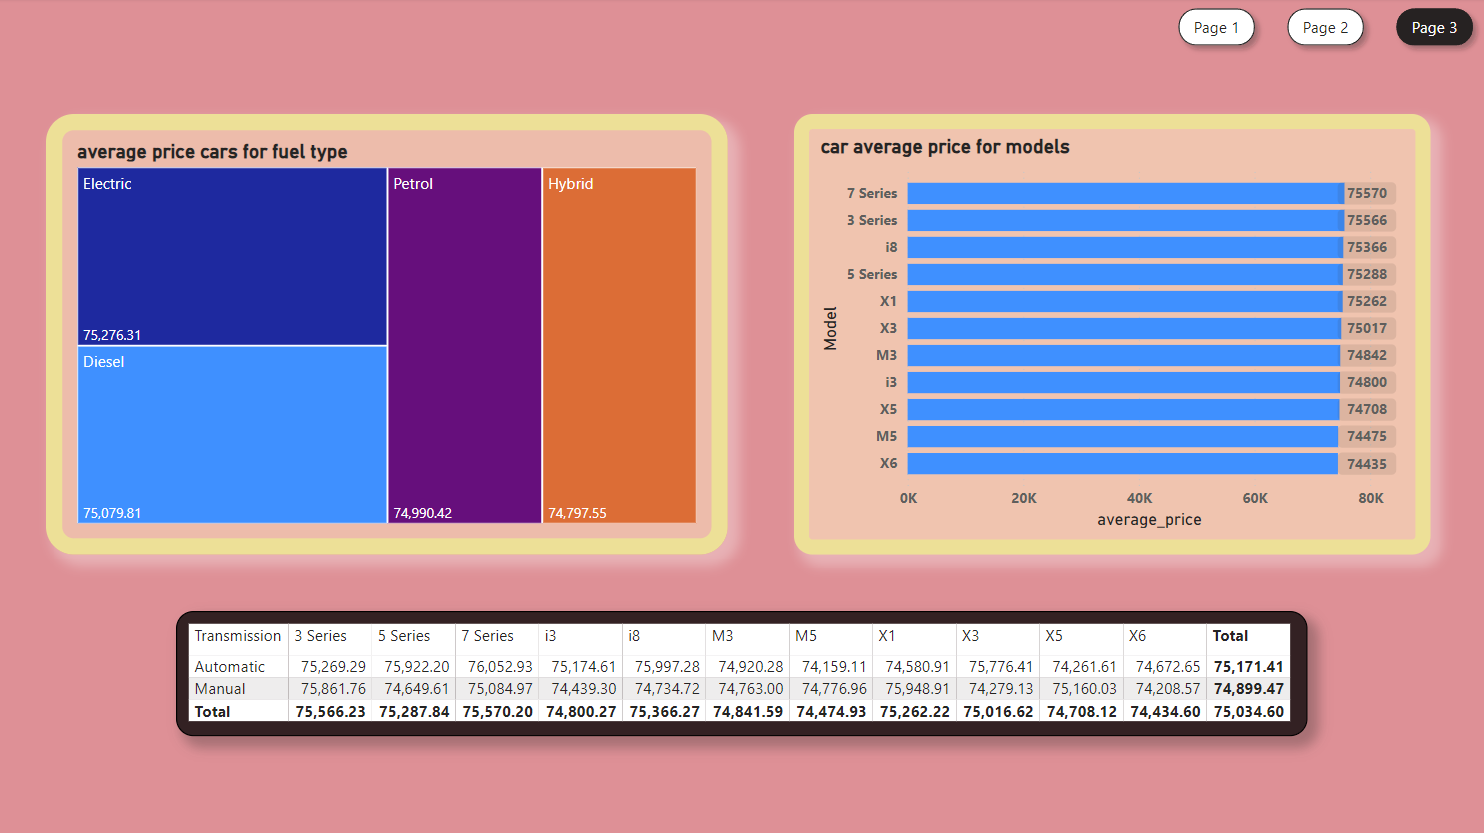

The dashboard page shown, as its layout file describes it:
{"tool":"powerbi","page":{"name":"Page 3","canvas":[1280,720],"ordinal":2},"visuals":[{"type":"clusteredBarChart","title":"car average price for models","fields":{"Category":["BMW_Car_Sales_Classification.Model"],"Y":["BMW_Car_Sales_Classification.average_price"]},"box":[684.9,100.1,549.4,380.4],"z":0},{"type":"pageNavigator","box":[1007.1,0,272.7,50.5],"z":1000},{"type":"treemap","title":"average price cars for fuel type","fields":{"Values":["BMW_Car_Sales_Classification.average_price"],"Group":["BMW_Car_Sales_Classification.Fuel_Type"]},"box":[39.7,100.1,588.2,380.4],"z":2000},{"type":"pivotTable","fields":{"Rows":["BMW_Car_Sales_Classification.Transmission"],"Columns":["BMW_Car_Sales_Classification.Model"],"Values":["BMW_Car_Sales_Classification.average_price"]},"box":[151.8,528.7,975.5,107.8],"z":3000}]}

Visuals, with their boxes in screenshot pixels (x1, y1, x2, y2), scaled from the page's 1280x720 canvas onto the 1484x833 screenshot:
"car average price for models" clusteredBarChart: l=794, t=116, r=1431, b=556
pageNavigator: l=1168, t=0, r=1483, b=58
"average price cars for fuel type" treemap: l=46, t=116, r=728, b=556
pivotTable - BMW_Car_Sales_Classification.Transmission x BMW_Car_Sales_Classification.Model: l=176, t=612, r=1307, b=736
